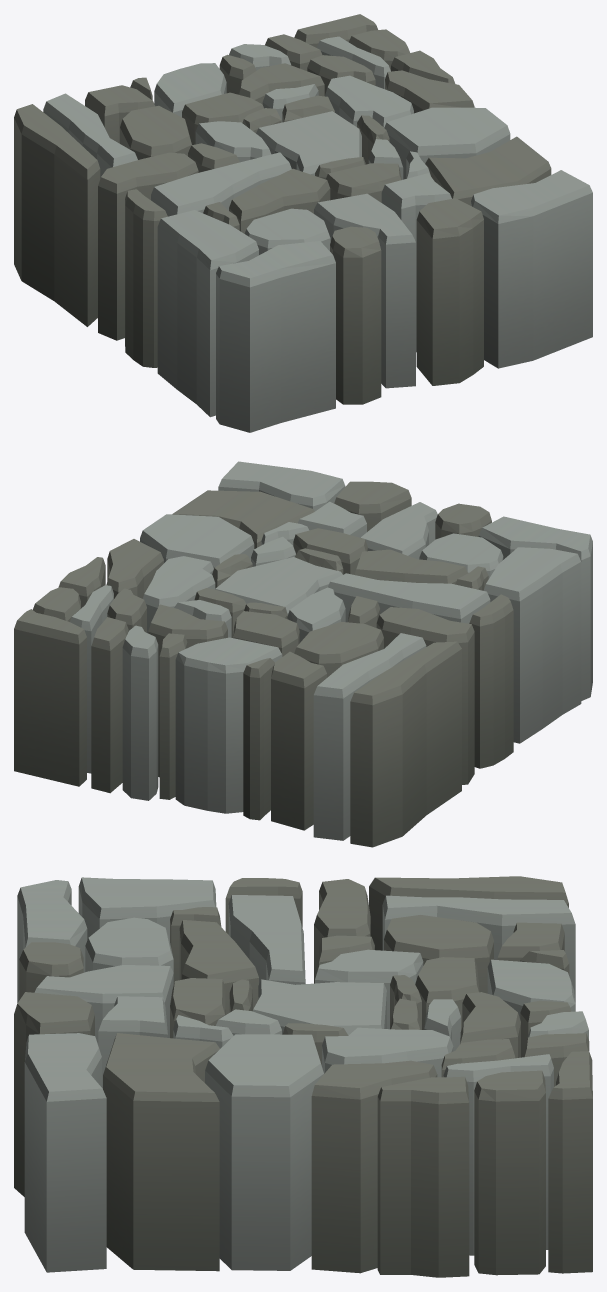
Rendered from ZLP_Road_B_1.FBX.
3 views of the same model, one above another, from view 1: azimuth 30°, elevation 25°; view 2: azimuth 150°, elevation 25°; view 3: azimuth 270°, elevation 25° (orthographic). The views are drawn at different scales.
Parts seen in each view (by area): view 1: ZLP_Road_B_1; view 2: ZLP_Road_B_1; view 3: ZLP_Road_B_1.
Boxes of the visible parts, bbox=[...] form: ZLP_Road_B_1: bbox=[14, 14, 592, 432]; ZLP_Road_B_1: bbox=[14, 461, 592, 847]; ZLP_Road_B_1: bbox=[14, 876, 592, 1277].
Size of the model in its own units: 369 by 144 by 412.
